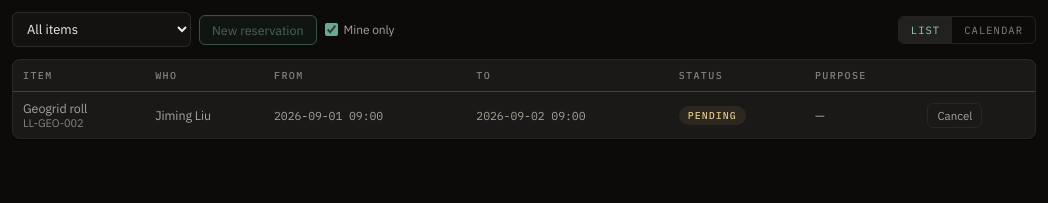
Test: Reservations › flag on: Mine only defaults ON and filters to the caller's rows
Expected: the text "Jiming Liu" is shown, x1=145 y1=92 x2=264 y2=138
Expected: the text "Subash Koirala" is not shown
Click the checkbox labelled "Mine only" at (331, 30), box x1=325 y1=23 x2=338 y2=36
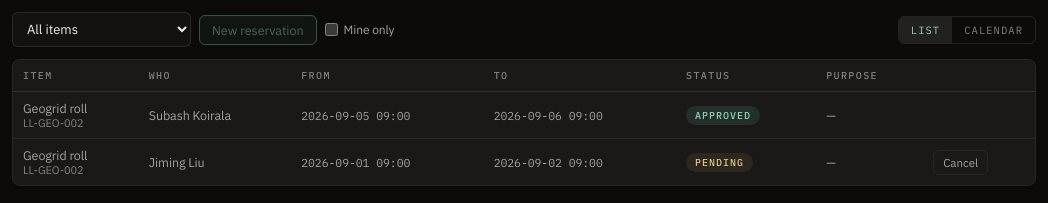
Expected: the text "Subash Koirala" is shown, x1=139 y1=92 x2=291 y2=138
